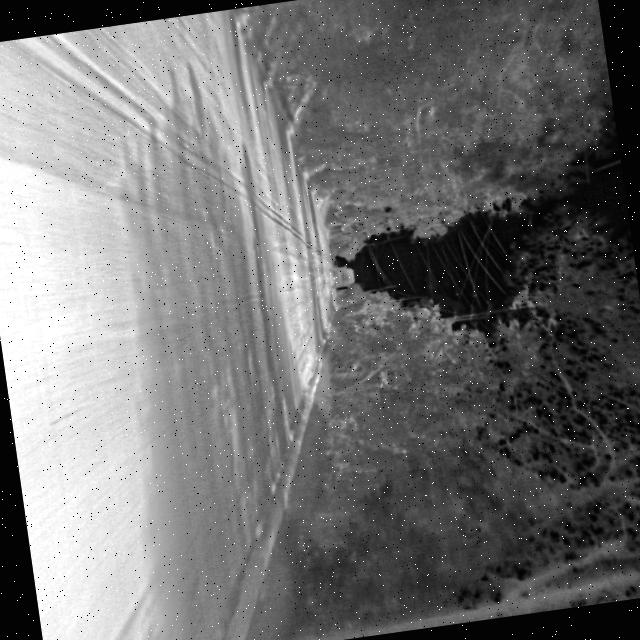Vehicle: (326, 263, 357, 292)
